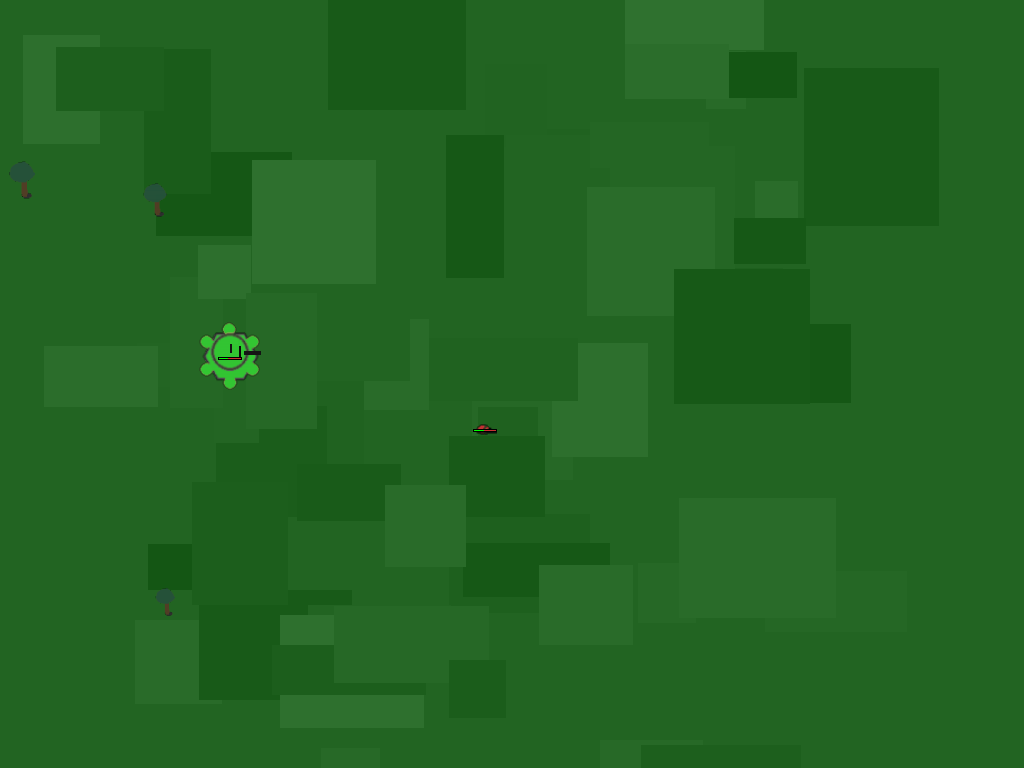Bunker: (195, 321, 265, 391)
Sniper: (469, 412, 500, 443)
